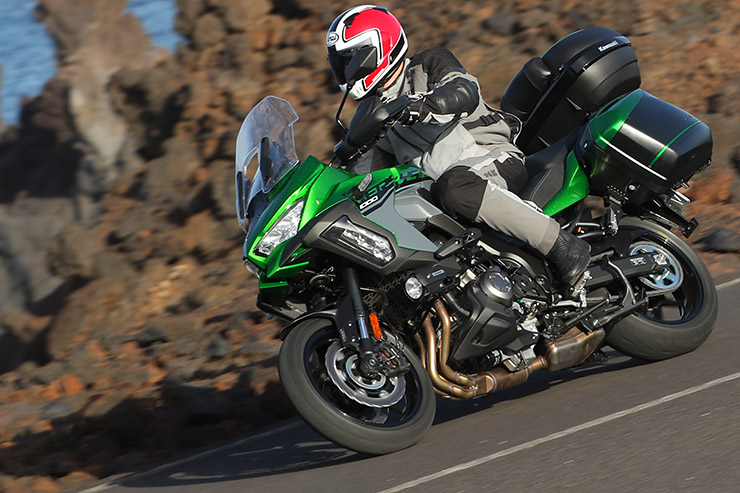helmet: (317, 1, 430, 102)
